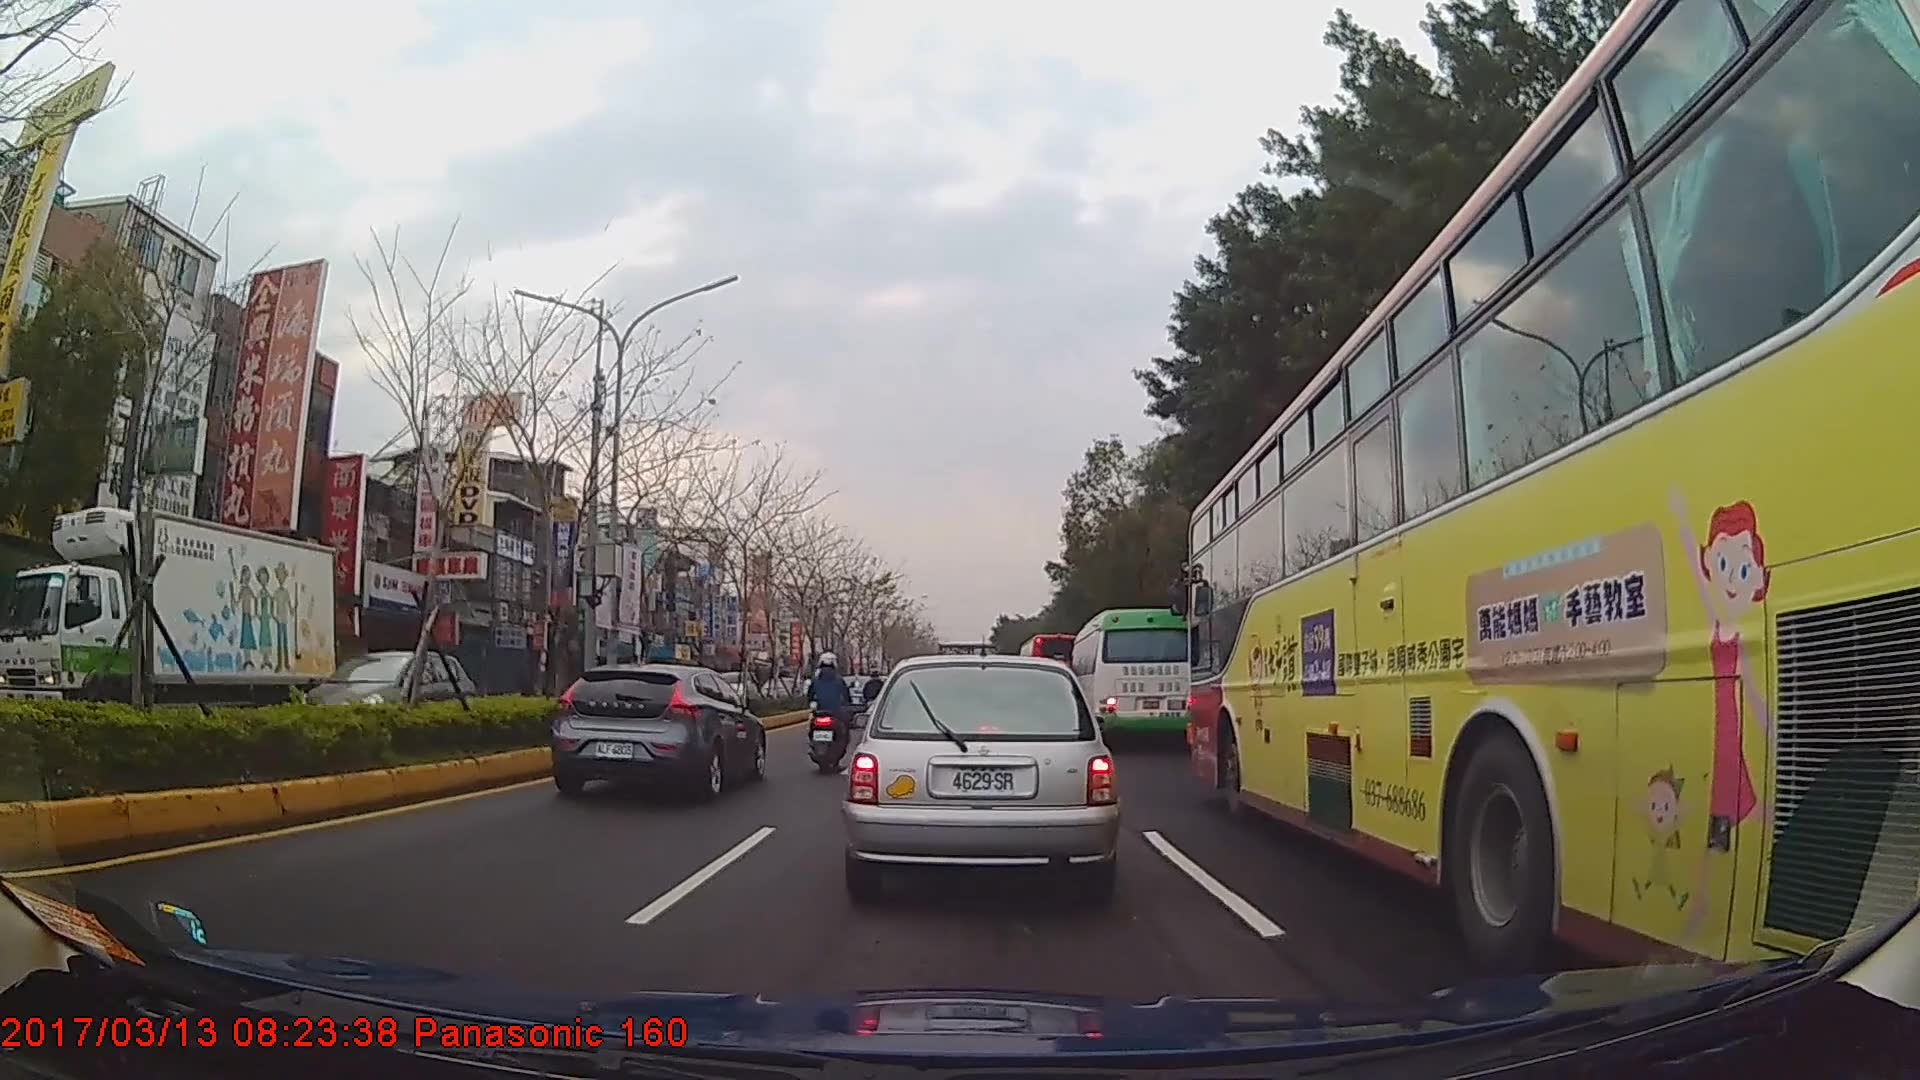rider: (806, 655, 855, 763), (863, 671, 887, 738)
vehicle: (1187, 0, 1920, 1024), (0, 505, 337, 748), (841, 654, 1115, 910), (550, 663, 767, 804), (294, 648, 478, 746), (1069, 609, 1195, 751), (1015, 636, 1083, 710)
